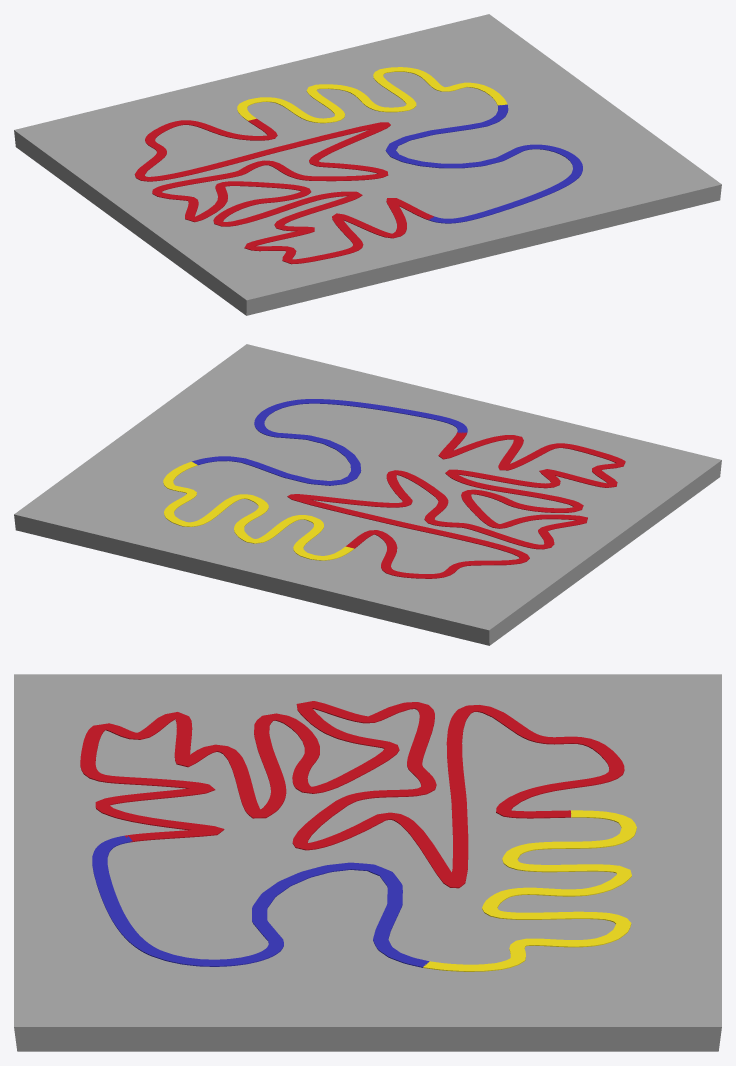
The model's file is world_light.dae.
3 views of the same model, one above another, from view 1: azimuth 30°, elevation 25°; view 2: azimuth 150°, elevation 25°; view 3: azimuth 270°, elevation 25° (orthographic). The views are drawn at different scales.
Parts seen in each view (by area): view 1: Base, Red, Blue, Yellow; view 2: Base, Red, Blue, Yellow; view 3: Base, Red, Yellow, Blue.
Part boxes in pixels (x1,y1,x2,y2): Base: (14, 14, 721, 315); Red: (134, 118, 433, 264); Blue: (385, 104, 582, 223); Yellow: (237, 67, 507, 123); Base: (14, 344, 721, 645); Red: (287, 432, 625, 578); Blue: (192, 399, 467, 485); Yellow: (163, 461, 354, 560); Base: (14, 674, 721, 1051); Red: (80, 701, 624, 888); Yellow: (423, 810, 636, 971); Blue: (92, 835, 429, 967).
Size of the model in its own units: 11.57 by 9.82 by 0.3966.
